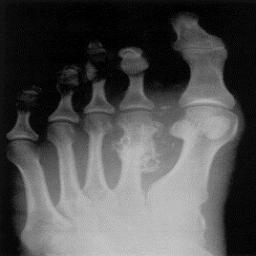cancer: (108, 121, 170, 172)
